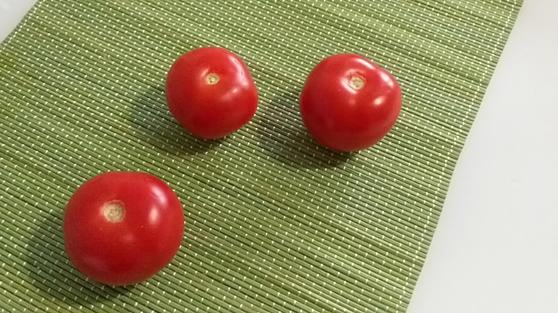tomato: (64, 172, 186, 285), (300, 53, 403, 153), (165, 46, 258, 140)
